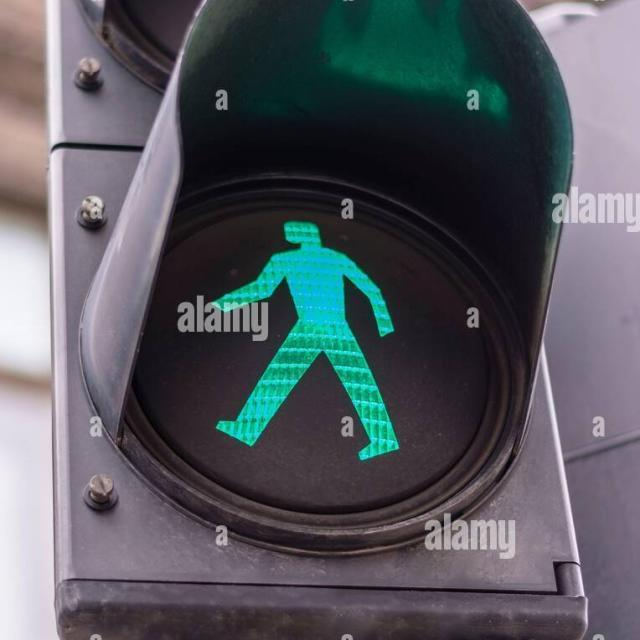geen-crossing: (204, 188, 413, 483)
